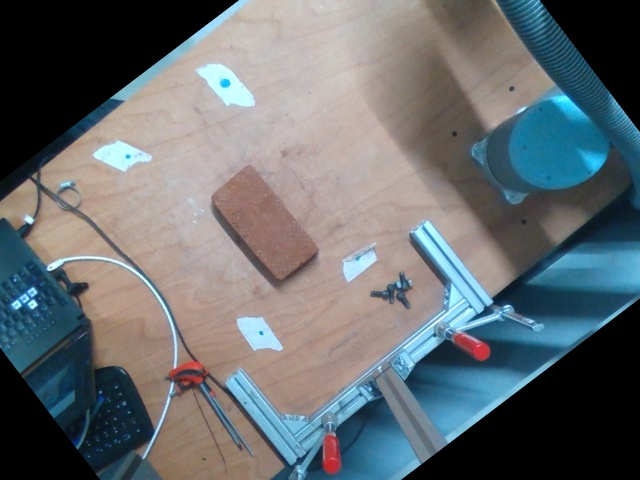brick: (211, 164, 320, 280)
